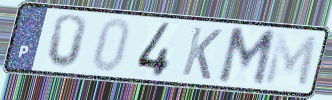0: (90, 17, 135, 75), (45, 12, 89, 71)
4: (134, 20, 174, 80)
K: (179, 24, 225, 82)
M: (214, 26, 279, 90), (262, 32, 320, 91)
